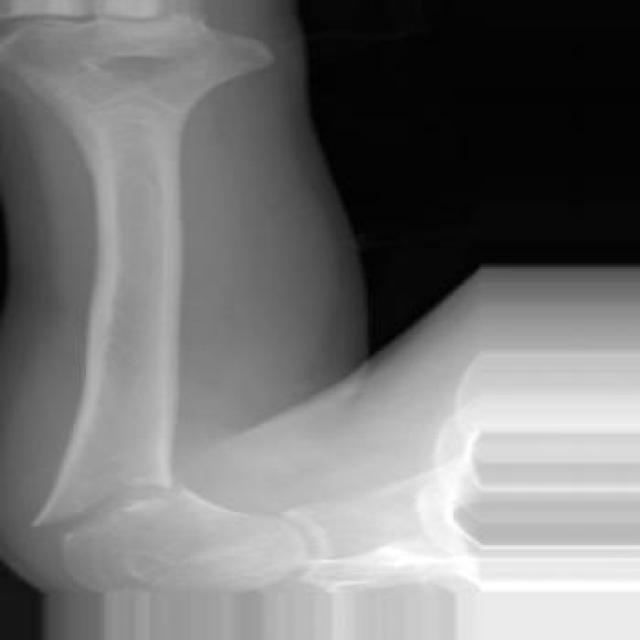Fracture: (8, 474, 184, 546)
